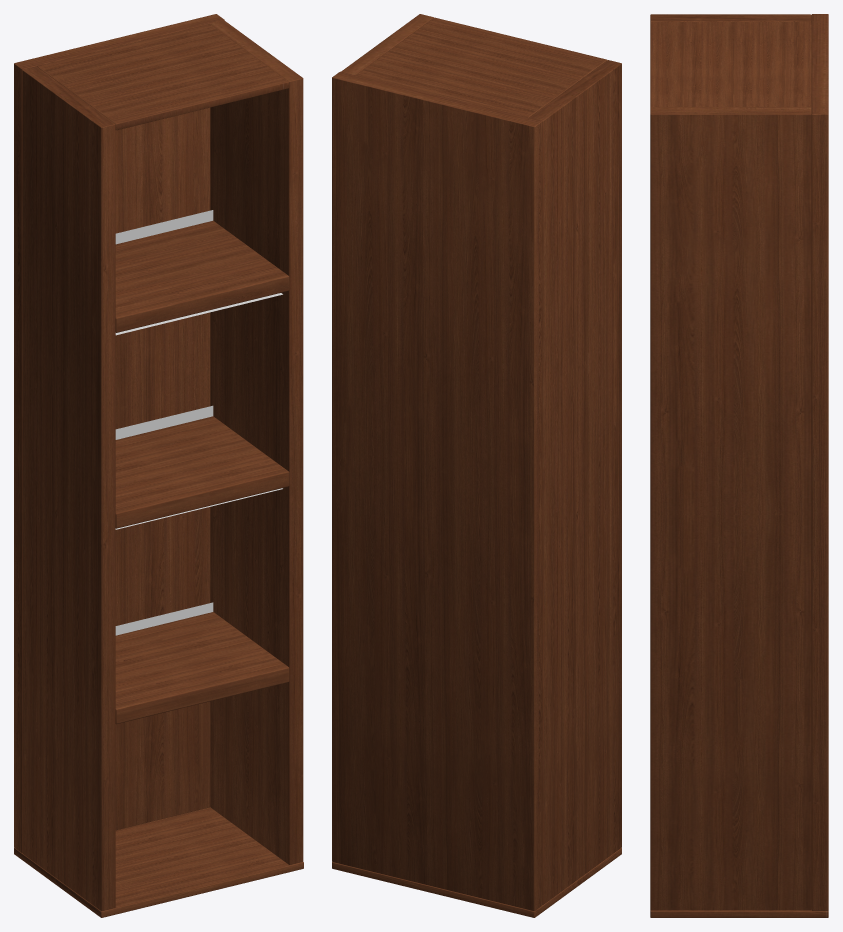
The model's file is furniture2.glb.
3 views of the same model, side by side, from view 1: azimuth 30°, elevation 25°; view 2: azimuth 150°, elevation 25°; view 3: azimuth 270°, elevation 25° (orthographic).
Parts seen in each view (by area): view 1: bookcase, shelf_pick_ground, Cube_mount.001, Cube_mount, Cube_mount.002; view 2: bookcase; view 3: bookcase.
Boxes of the visible parts, bbox=[...] form: bookcase: bbox=[14, 14, 303, 917]; shelf_pick_ground: bbox=[115, 220, 289, 724]; Cube_mount.001: bbox=[115, 210, 282, 335]; Cube_mount: bbox=[115, 405, 282, 529]; Cube_mount.002: bbox=[115, 602, 213, 635]; bookcase: bbox=[332, 14, 621, 917]; bookcase: bbox=[650, 14, 828, 917].
Size of the model in its own units: 0.3897 by 1.45 by 0.2918.
Materials: 1 (1 with a texture image).
